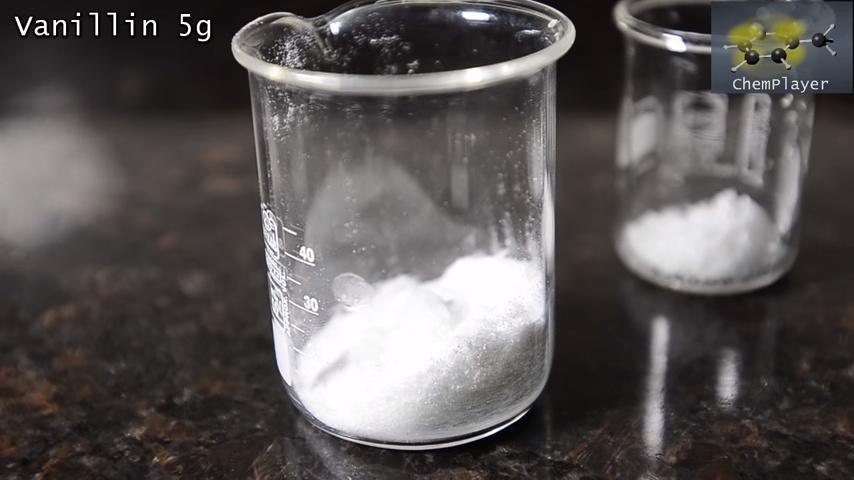Beaker: (232, 20, 559, 456), (608, 9, 802, 295)
